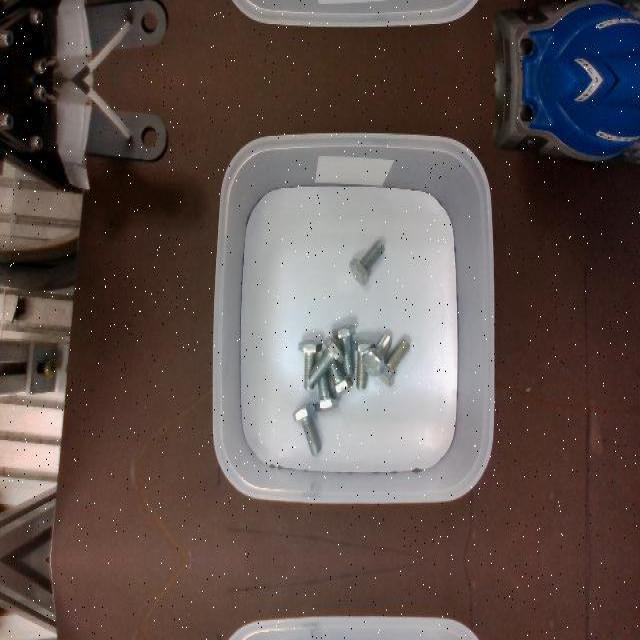screw: (307, 335, 343, 385), (292, 401, 322, 455), (350, 240, 385, 286), (361, 333, 391, 375), (332, 323, 356, 373)
